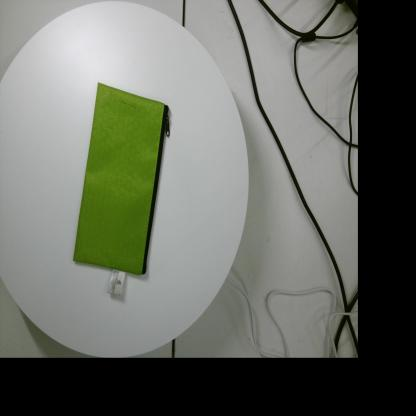Stationery: (72, 82, 170, 296)
